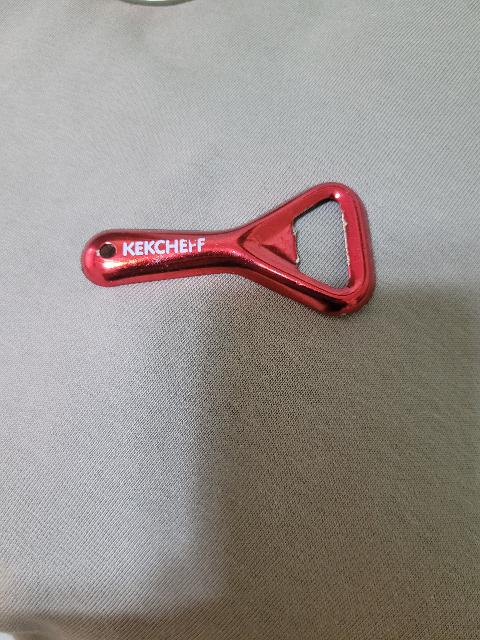Metal: (75, 177, 378, 321)
